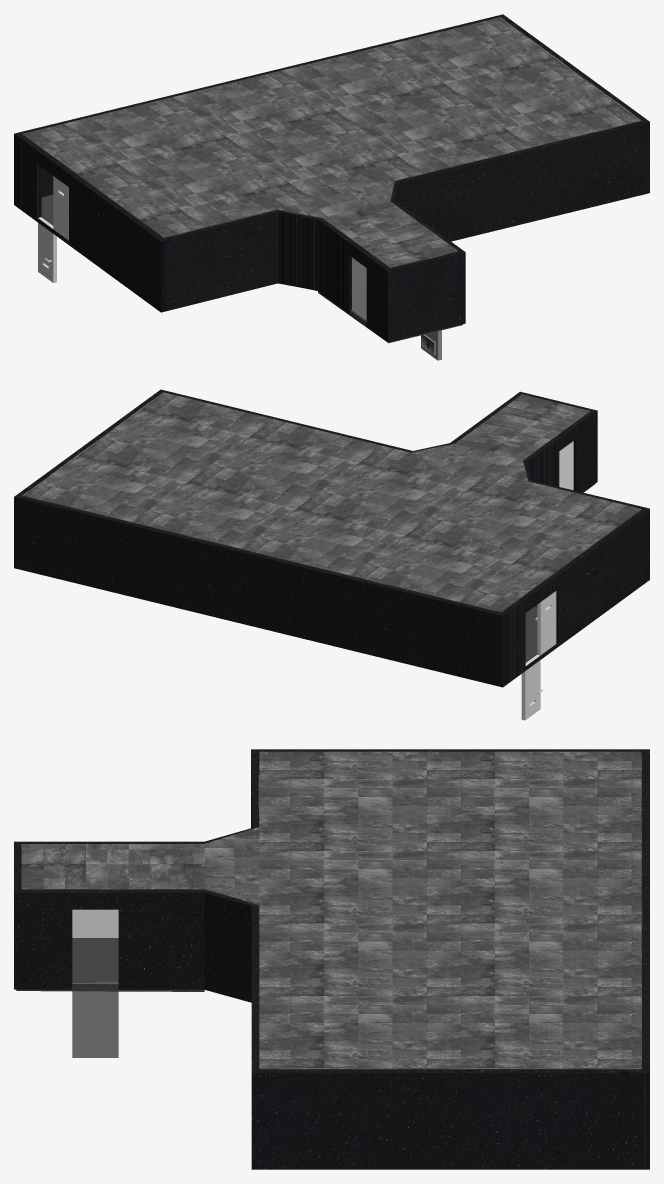
The model's file is Stage 3.FBX.
The picture shows the model from 3 angles, top to bottom: view 1: azimuth 30°, elevation 25°; view 2: azimuth 150°, elevation 25°; view 3: azimuth 270°, elevation 25°; orthographic projection. The views are drawn at different scales.
Parts seen in each view (by area): view 1: Ceiling, Walls, Main Door001, Main Door, Men Bathroom Door, Floor and bar table; view 2: Ceiling, Walls, Main Door, Main Door001, Floor and bar table, Men Bathroom Door; view 3: Ceiling, Walls, Women Bathroom Door, Floor and bar table, Men Bathroom Door.
Part boxes in pixels (x1,y1,x2,y2): Ceiling: (22,17,641,267); Walls: (14,14,649,342); Main Door001: (38,217,56,282); Main Door: (53,176,68,240); Men Bathroom Door: (352,257,366,320); Floor and bar table: (41,194,462,343); Ceiling: (22,392,641,612); Walls: (14,389,649,687); Main Door: (535,591,556,655); Main Door001: (521,654,542,720); Floor and bar table: (525,484,594,661); Men Bathroom Door: (559,441,573,490); Ceiling: (21,751,642,1069); Walls: (14,749,649,1169); Women Bathroom Door: (72,982,118,1057); Floor and bar table: (16,938,641,1068); Men Bathroom Door: (72,909,118,937).
Bounding box in the file's own units: 684 × 164 × 565.
Materials: 25 (16 with a texture image).
